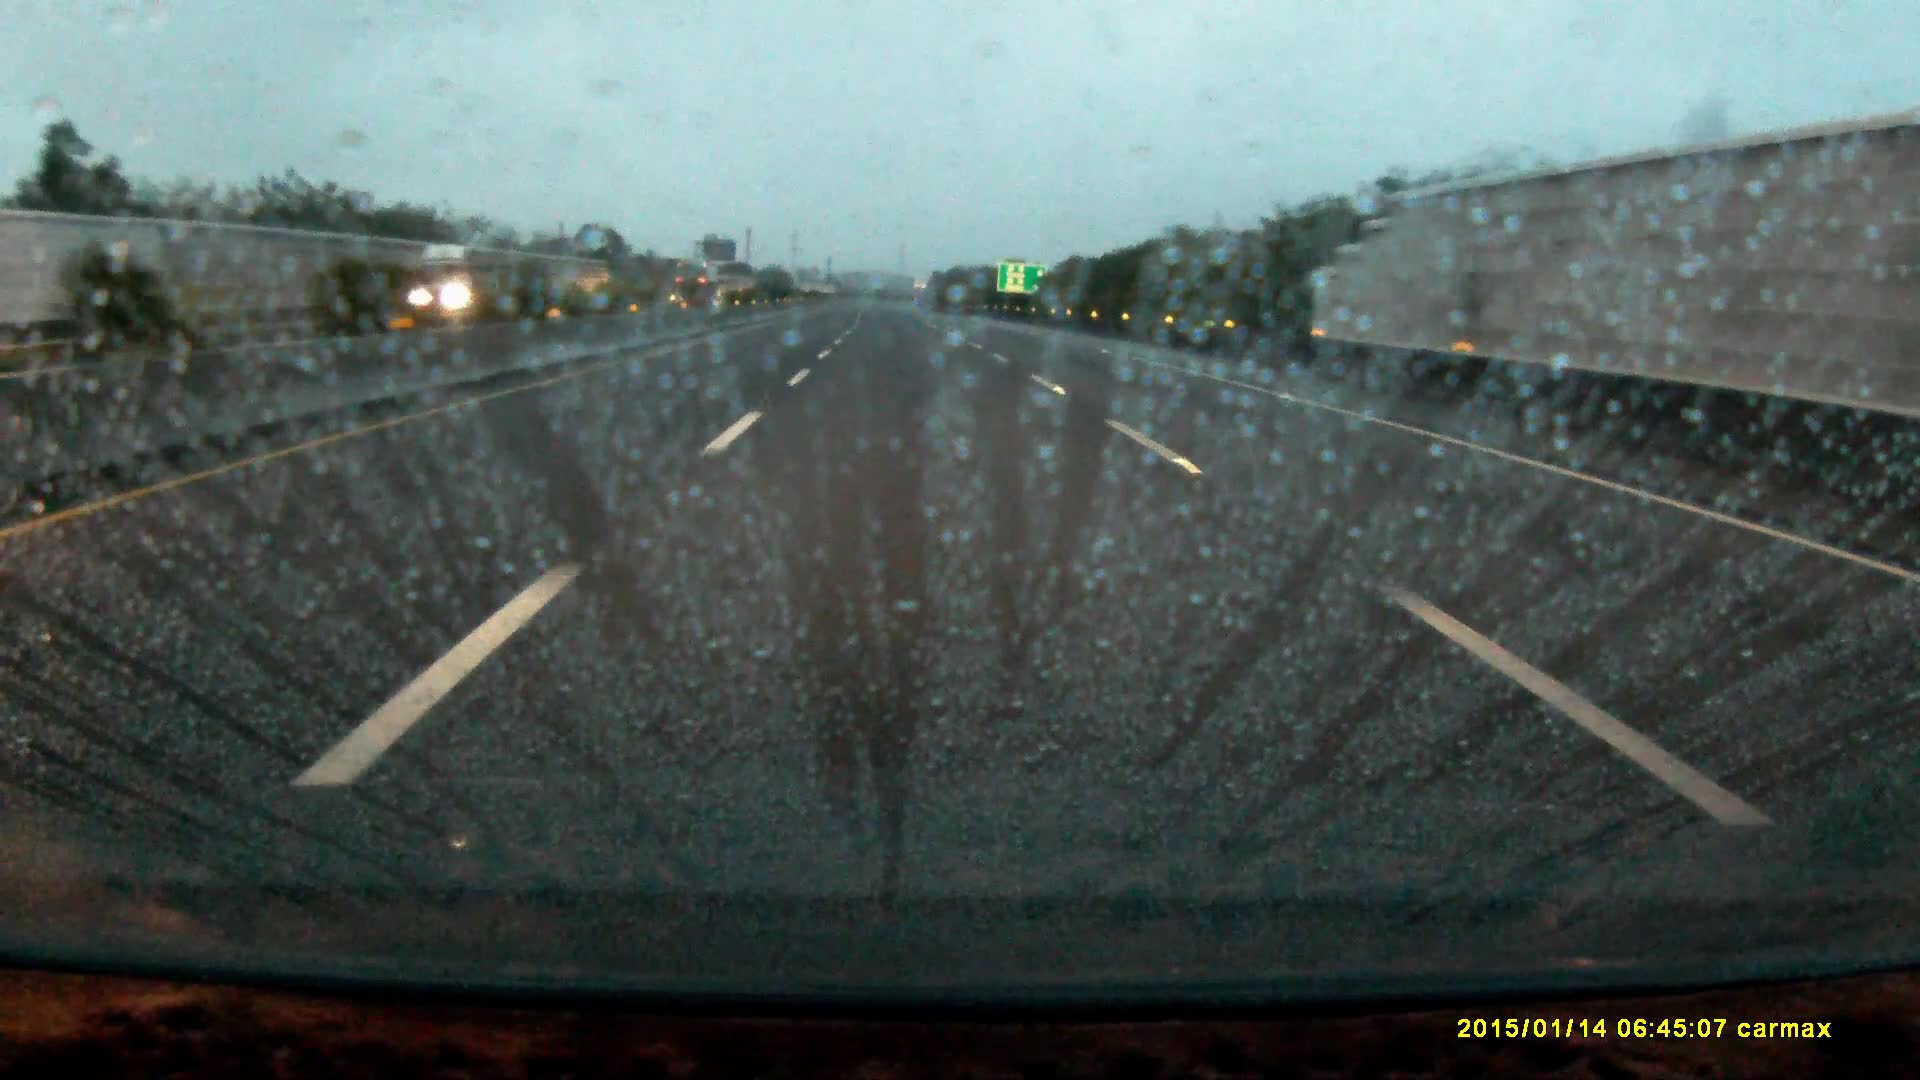vehicle: (410, 244, 516, 334), (676, 272, 724, 313)
